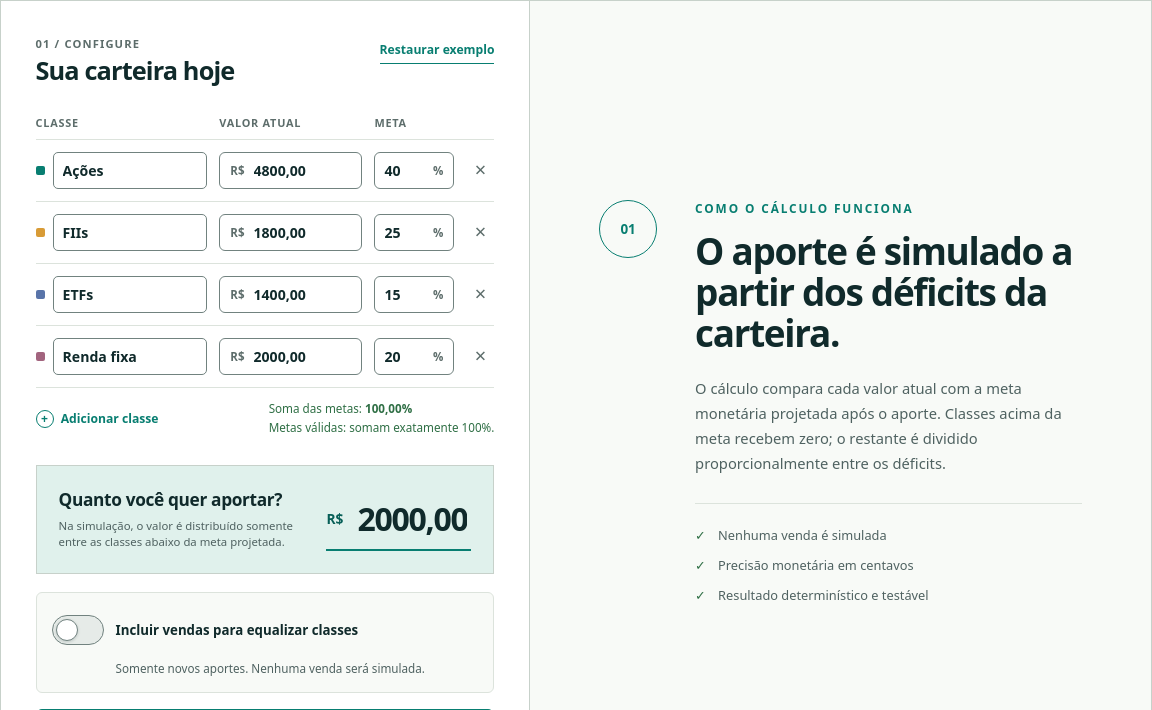
Test: ContributionSimulator › focuses the new class name after adding a class
Click the button "+ Adicionar classe".
click(97, 419)  # box [36,405,158,433]
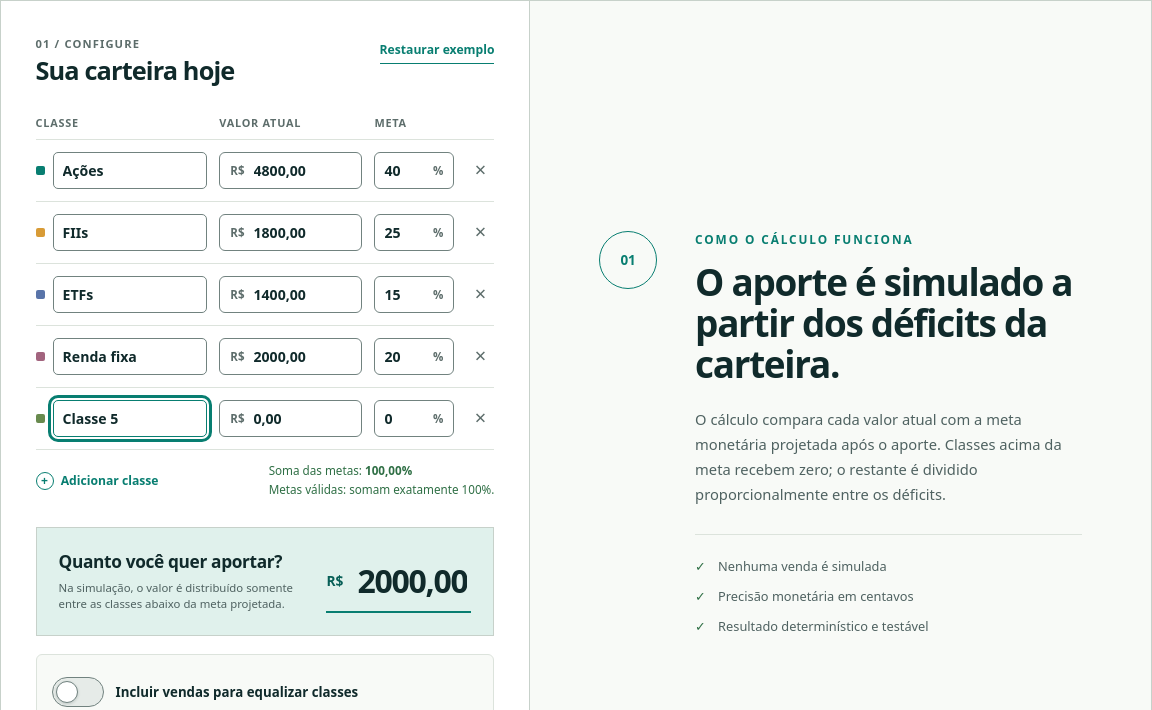
Now the field named "Nome da classe 5" holds "Classe 5", box [52,400,207,437]
